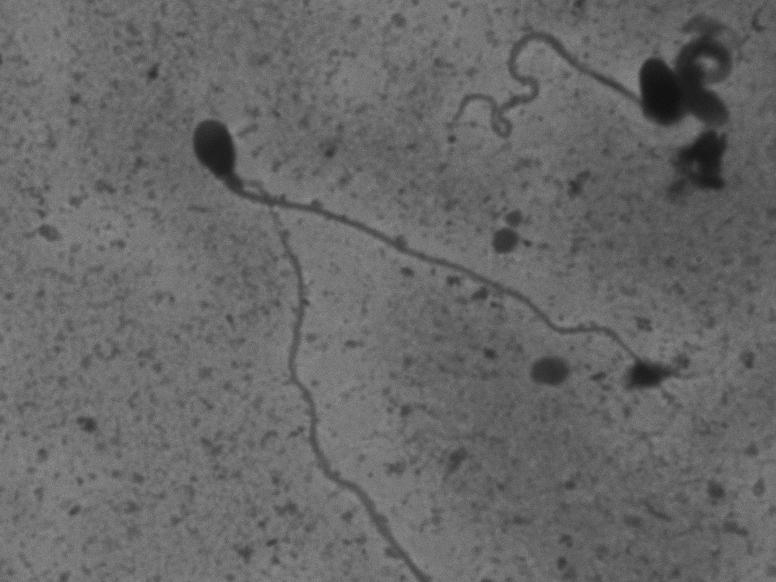Abnormal: (445, 15, 684, 183)
Normal: (180, 108, 678, 418)
